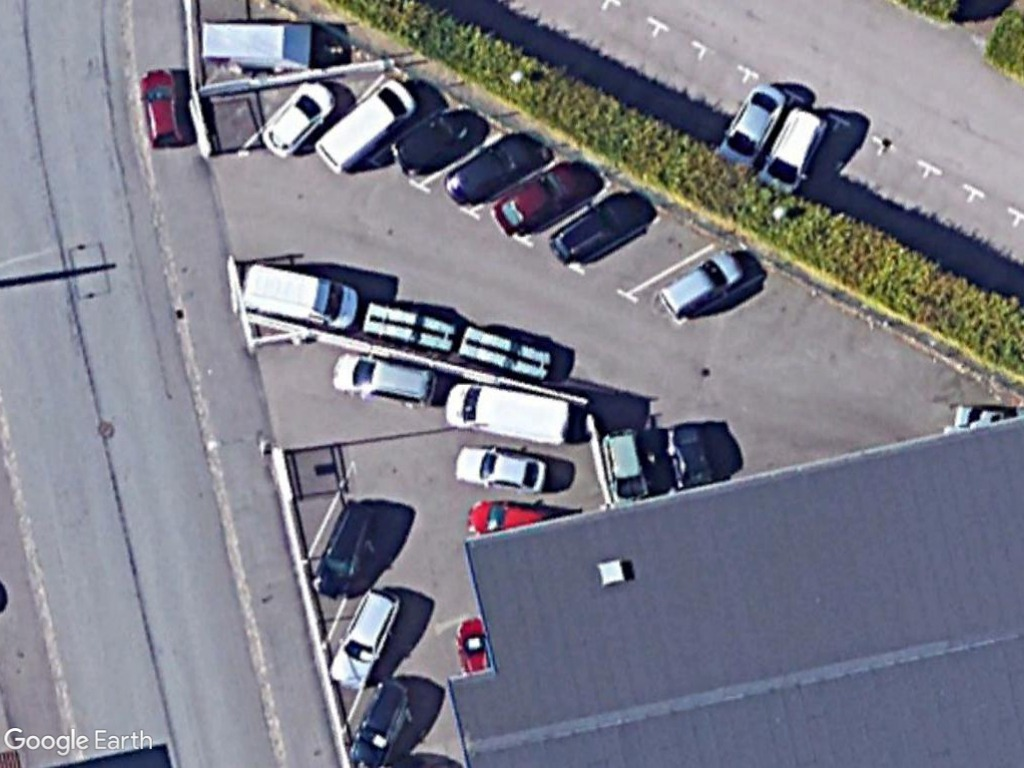car: (487, 156, 588, 242), (325, 586, 406, 693), (650, 246, 748, 322), (260, 79, 338, 162), (345, 676, 414, 768), (328, 353, 441, 409), (451, 438, 554, 496), (139, 64, 192, 155)
van: (311, 78, 415, 181), (237, 260, 364, 334), (442, 378, 576, 447)
